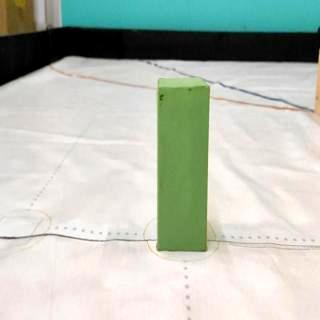greenbox: (157, 78, 209, 252)
